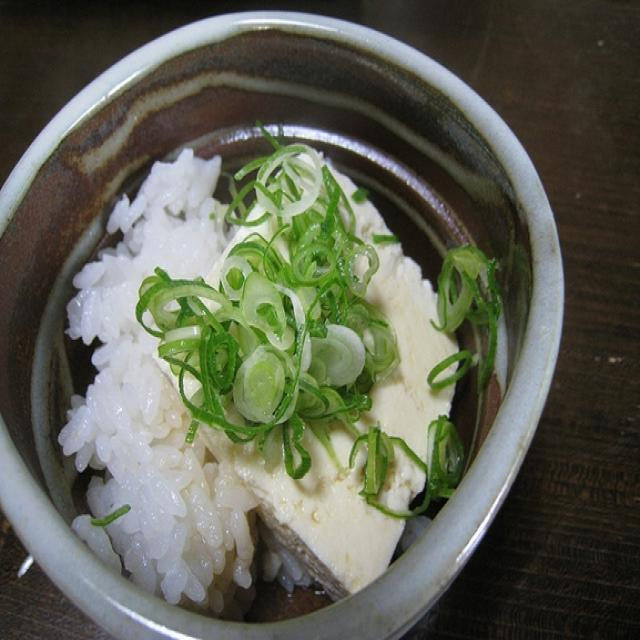豆腐料理: (10, 15, 558, 631)
